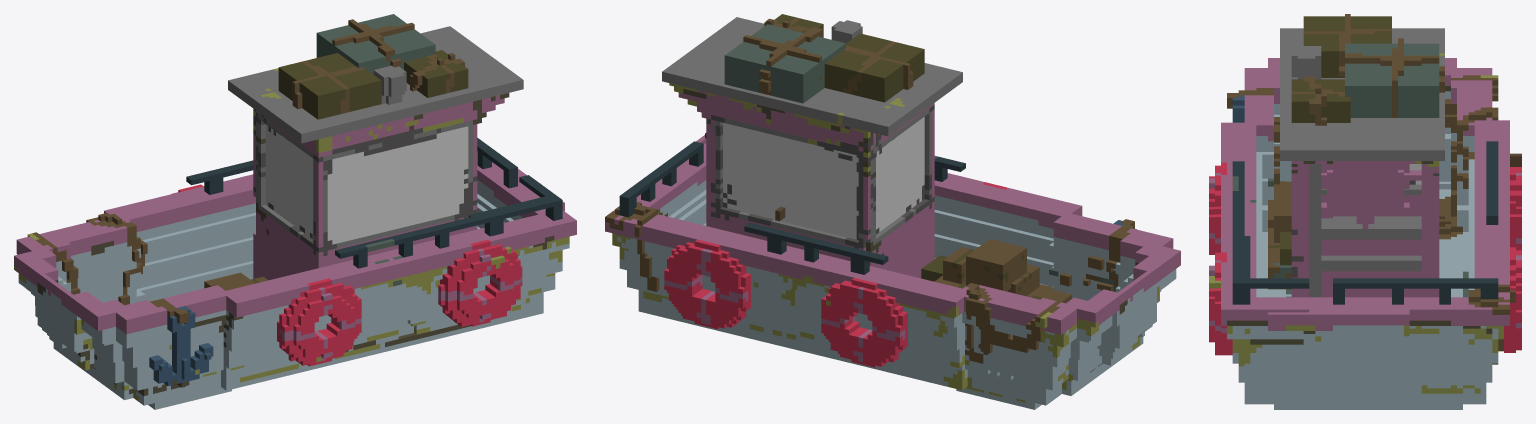
File: Sunken City - Ruins 3 --0-boat.obj
The picture shows the model from 3 angles, left to right: view 1: azimuth 30°, elevation 25°; view 2: azimuth 150°, elevation 25°; view 3: azimuth 270°, elevation 25°; orthographic projection. The views are drawn at different scales.
Visible parts, largest first — view 1: boat; view 2: boat; view 3: boat.
Part boxes in pixels (<box>): boat: <box>14,14,576,409</box>; boat: <box>605,14,1180,409</box>; boat: <box>1209,14,1521,409</box>.
Bounding box in the file's own units: 10.3 × 5.6 × 5.3.
1 material, 1 textured.
